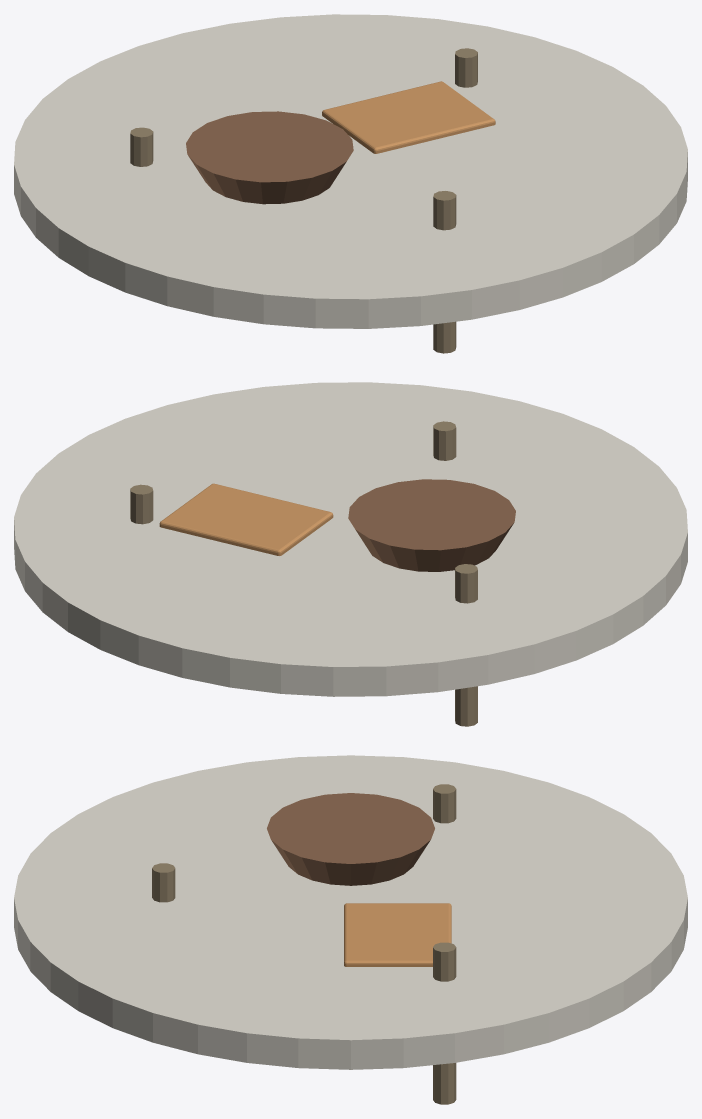
File: home_coffee.glb
3 renders of one model, top to bottom at view 1: azimuth 30°, elevation 25°; view 2: azimuth 150°, elevation 25°; view 3: azimuth 270°, elevation 25°, orthographic.
Parts seen in each view (by area): view 1: coffee; view 2: coffee; view 3: coffee.
Boxes of the visible parts, bbox=[...] form: coffee: bbox=[14, 14, 687, 353]; coffee: bbox=[14, 382, 687, 726]; coffee: bbox=[14, 755, 687, 1104].
Size of the model in its own units: 1.44 by 0.36 by 1.44.
